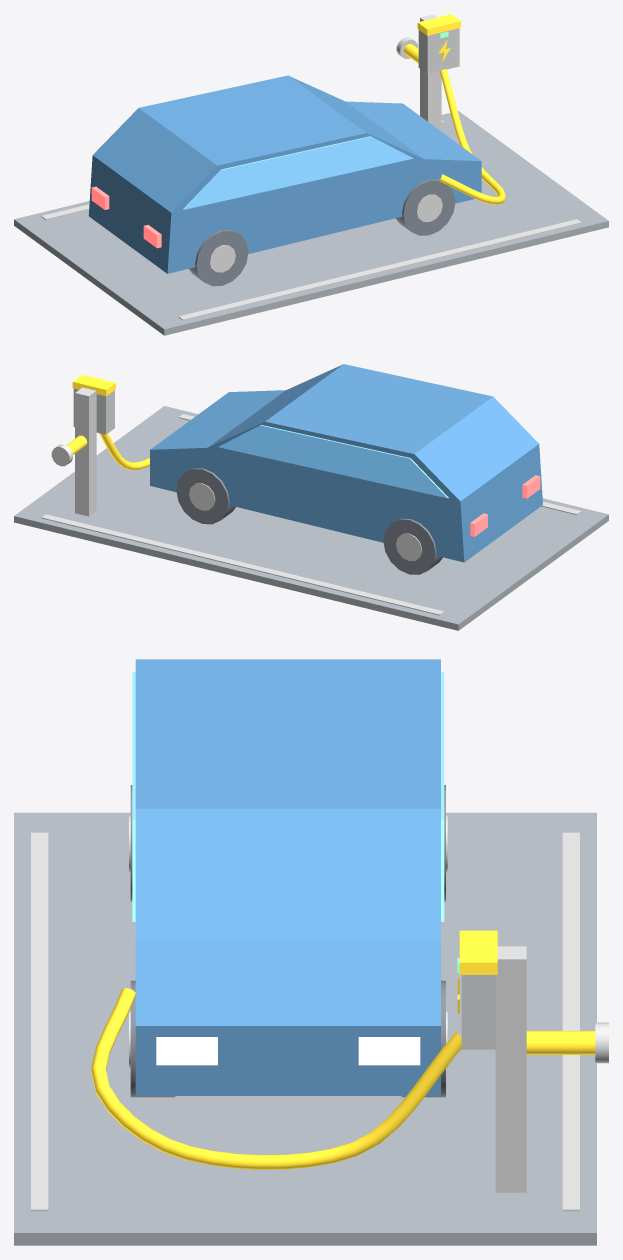
Rendered from EV-car.glb.
3 renders of one model, top to bottom at view 1: azimuth 30°, elevation 25°; view 2: azimuth 150°, elevation 25°; view 3: azimuth 270°, elevation 25°, orthographic. The views are drawn at different scales.
Visible parts, largest first — view 1: body, pad, windows, wheel (×2), bay_line, cable, wallbox, post, hubcap (×2), band; view 2: body, pad, windows, wheel (×2), post, bay_line, hubcap (×2), wallbox, band, cable, terminal_cap; view 3: pad, body, bay_line (×2), cable, post, headlight (×2), wallbox, windows, band, terminal_stub.
Part boxes in pixels (x1,y1,x2,y2): body: (88, 75, 481, 273); pad: (14, 111, 608, 335); windows: (183, 136, 413, 209); wheel (×2): (189, 179, 455, 286); bay_line: (178, 219, 581, 320); cable: (439, 69, 505, 204); wallbox: (418, 28, 459, 74); post: (420, 14, 441, 131); hubcap (×2): (209, 194, 442, 272); band: (417, 14, 460, 35); body: (150, 364, 542, 562); pad: (14, 406, 608, 630); windows: (218, 425, 448, 498); wheel (×2): (176, 468, 442, 574); post: (75, 387, 96, 516); bay_line: (41, 514, 444, 615); hubcap (×2): (189, 483, 422, 561); wallbox: (73, 388, 114, 434); band: (72, 374, 115, 396); cable: (99, 433, 149, 469); terminal_cap: (51, 444, 72, 466); pad: (14, 812, 596, 1245); body: (135, 659, 440, 1095); bay_line (×2): (31, 832, 579, 1211); cable: (91, 988, 461, 1169); post: (495, 946, 526, 1192); headlight (×2): (156, 1037, 420, 1065); wallbox: (461, 975, 495, 1049); windows: (132, 672, 444, 921); band: (459, 930, 497, 974); terminal_stub: (526, 1031, 595, 1054).
Bounding box in the file's own units: 5.8 × 1.62 × 3.47.
